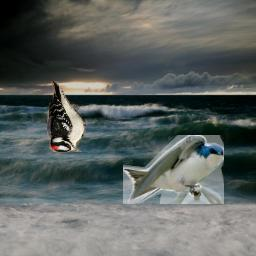Swallow: (123, 135, 224, 204)
Woodpecker: (47, 81, 86, 152)
